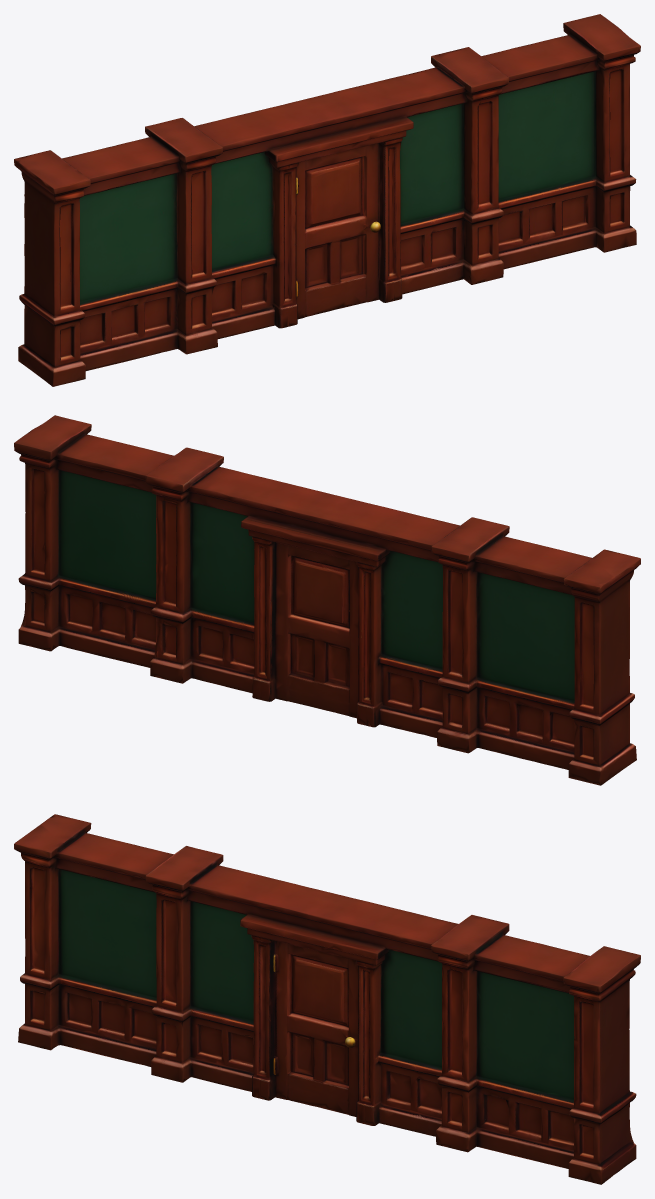
File: wall-door2.glb
3 renders of one model, top to bottom at view 1: azimuth 30°, elevation 25°; view 2: azimuth 150°, elevation 25°; view 3: azimuth 330°, elevation 25°, orthographic.
Visible parts, largest first — view 1: tripo_node_f0ec2cae-ba76-42d5-8c4a-cf4aa6d74d3e; view 2: tripo_node_f0ec2cae-ba76-42d5-8c4a-cf4aa6d74d3e; view 3: tripo_node_f0ec2cae-ba76-42d5-8c4a-cf4aa6d74d3e.
Boxes of the visible parts, x1,y1,x2,y2 form: tripo_node_f0ec2cae-ba76-42d5-8c4a-cf4aa6d74d3e: (14, 14, 640, 386); tripo_node_f0ec2cae-ba76-42d5-8c4a-cf4aa6d74d3e: (14, 415, 640, 785); tripo_node_f0ec2cae-ba76-42d5-8c4a-cf4aa6d74d3e: (14, 814, 640, 1184).
Size of the model in its own units: 0.9703 by 0.3205 by 0.1172.
Materials: 1 (1 with a texture image).
